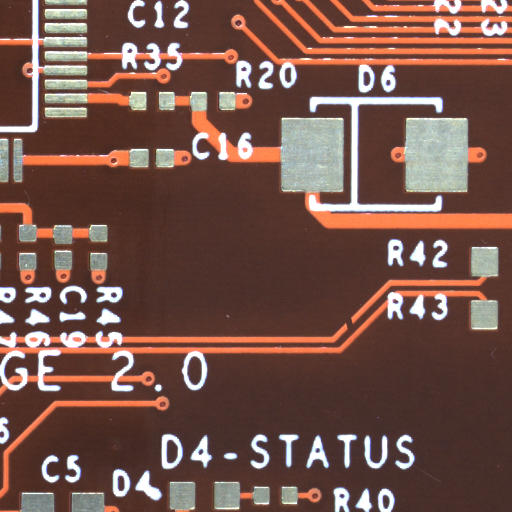Open_circuit: (349, 326, 360, 344)
